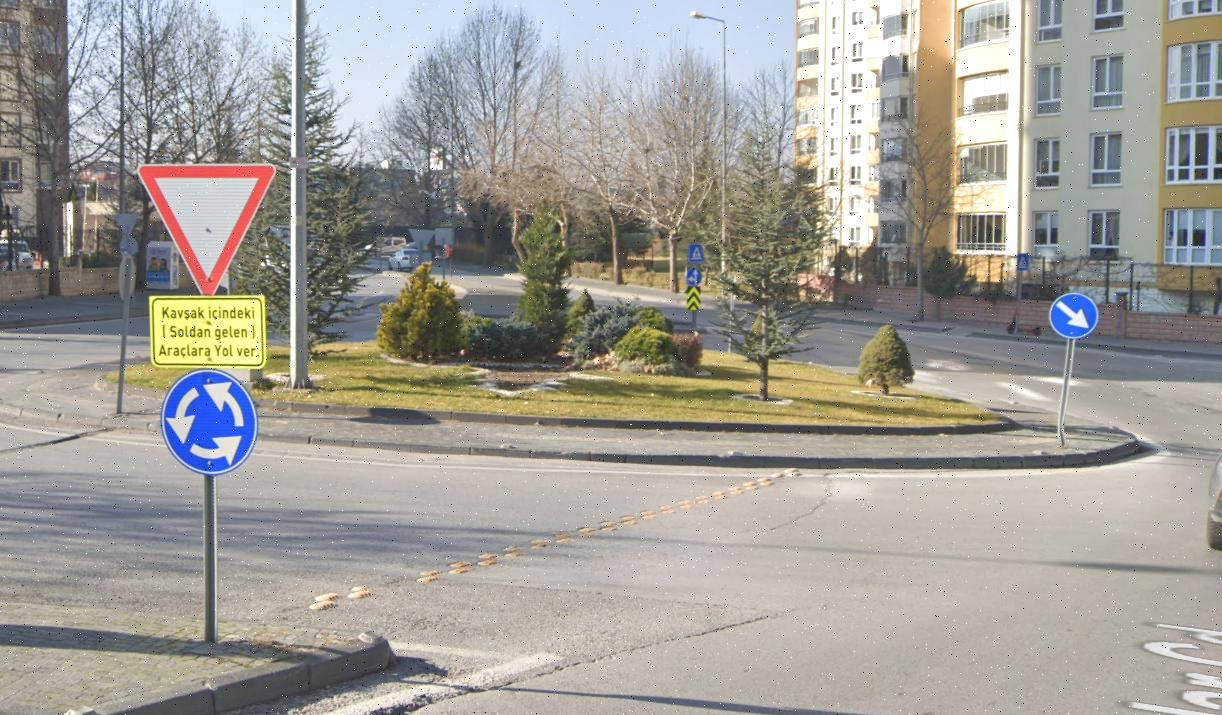crossroads: (167, 365, 256, 475)
